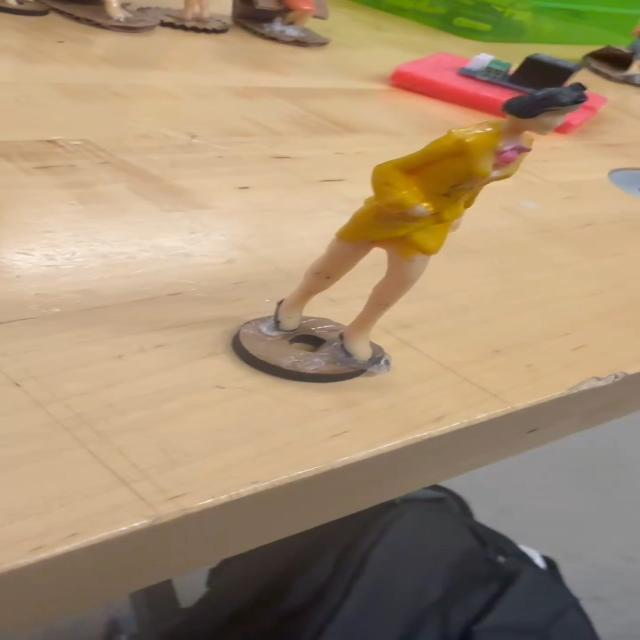Authorized: (244, 66, 586, 374)
